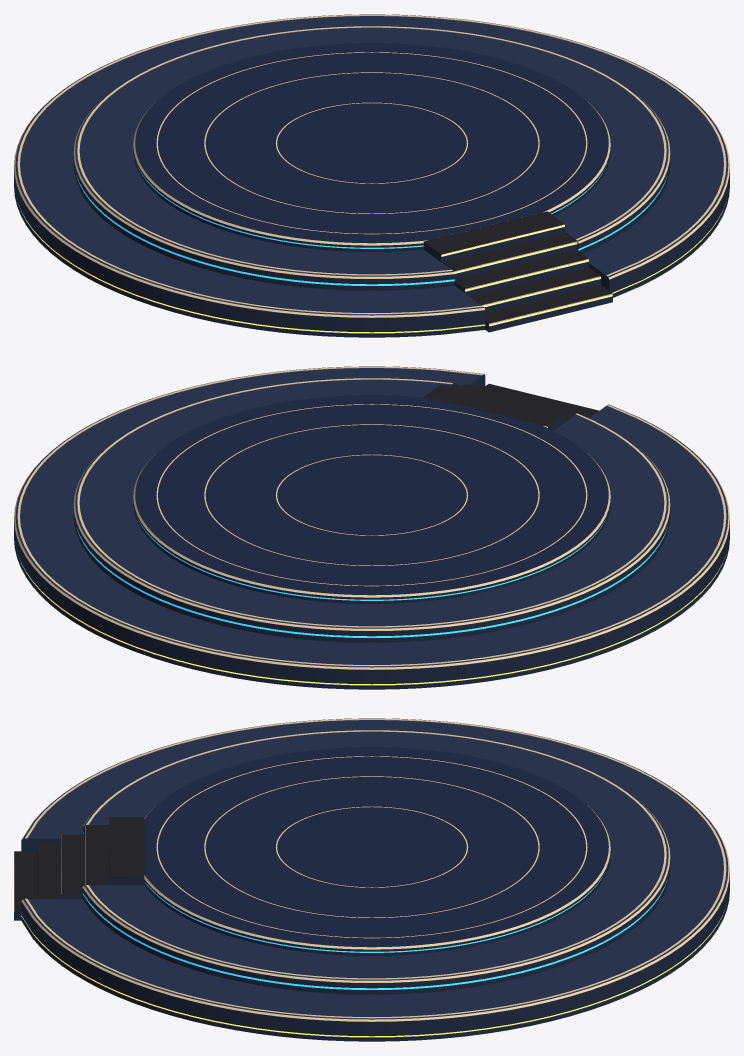
File: stage.glb
3 views of the same model, one above another, from view 1: azimuth 30°, elevation 25°; view 2: azimuth 150°, elevation 25°; view 3: azimuth 270°, elevation 25° (orthographic).
Visible parts, largest first — view 1: StagePlatform_TopSurface, StagePlatform_Base, StagePlatform_MiddleRing, StagePlatform_StairSteps, StagePlatform_OuterTrim, StagePlatform_CircularGrooves, StagePlatform_LED_Ring_Blue, StagePlatform_StairLEDs, StagePlatform_LED_Ring_Gold; view 2: StagePlatform_TopSurface, StagePlatform_Base, StagePlatform_MiddleRing, StagePlatform_OuterTrim, StagePlatform_StairSteps, StagePlatform_CircularGrooves, StagePlatform_LED_Ring_Blue, StagePlatform_LED_Ring_Gold; view 3: StagePlatform_TopSurface, StagePlatform_Base, StagePlatform_MiddleRing, StagePlatform_StairSteps, StagePlatform_OuterTrim, StagePlatform_CircularGrooves, StagePlatform_LED_Ring_Blue, StagePlatform_LED_Ring_Gold.
Part boxes in pixels (box(x1,y1,x2,y2)): StagePlatform_TopSurface: box(133, 43, 610, 251); StagePlatform_Base: box(14, 14, 729, 337); StagePlatform_MiddleRing: box(73, 26, 670, 290); StagePlatform_StairSteps: box(423, 211, 612, 332); StagePlatform_OuterTrim: box(17, 14, 726, 314); StagePlatform_CircularGrooves: box(156, 52, 587, 234); StagePlatform_LED_Ring_Blue: box(76, 163, 667, 285); StagePlatform_StairLEDs: box(441, 225, 612, 326); StagePlatform_LED_Ring_Gold: box(19, 204, 725, 333); StagePlatform_TopSurface: box(133, 395, 610, 603); StagePlatform_Base: box(14, 366, 729, 689); StagePlatform_MiddleRing: box(73, 378, 670, 642); StagePlatform_OuterTrim: box(17, 366, 726, 666); StagePlatform_StairSteps: box(424, 383, 598, 430); StagePlatform_CircularGrooves: box(156, 404, 587, 586); StagePlatform_LED_Ring_Blue: box(76, 519, 667, 637); StagePlatform_LED_Ring_Gold: box(19, 556, 725, 685); StagePlatform_TopSurface: box(144, 747, 610, 955); StagePlatform_Base: box(21, 718, 729, 1041); StagePlatform_MiddleRing: box(82, 730, 670, 994); StagePlatform_StairSteps: box(14, 817, 144, 920); StagePlatform_OuterTrim: box(25, 718, 726, 1018); StagePlatform_CircularGrooves: box(156, 756, 587, 938); StagePlatform_LED_Ring_Blue: box(83, 832, 667, 989); StagePlatform_LED_Ring_Gold: box(21, 910, 724, 1037).
Size of the model in its own units: 12 by 0.8002 by 12.
